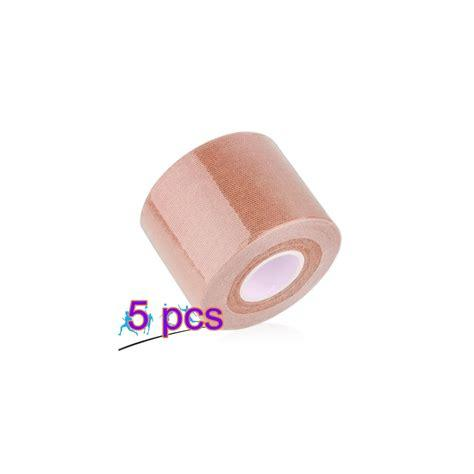gauze: (107, 123, 404, 336)
